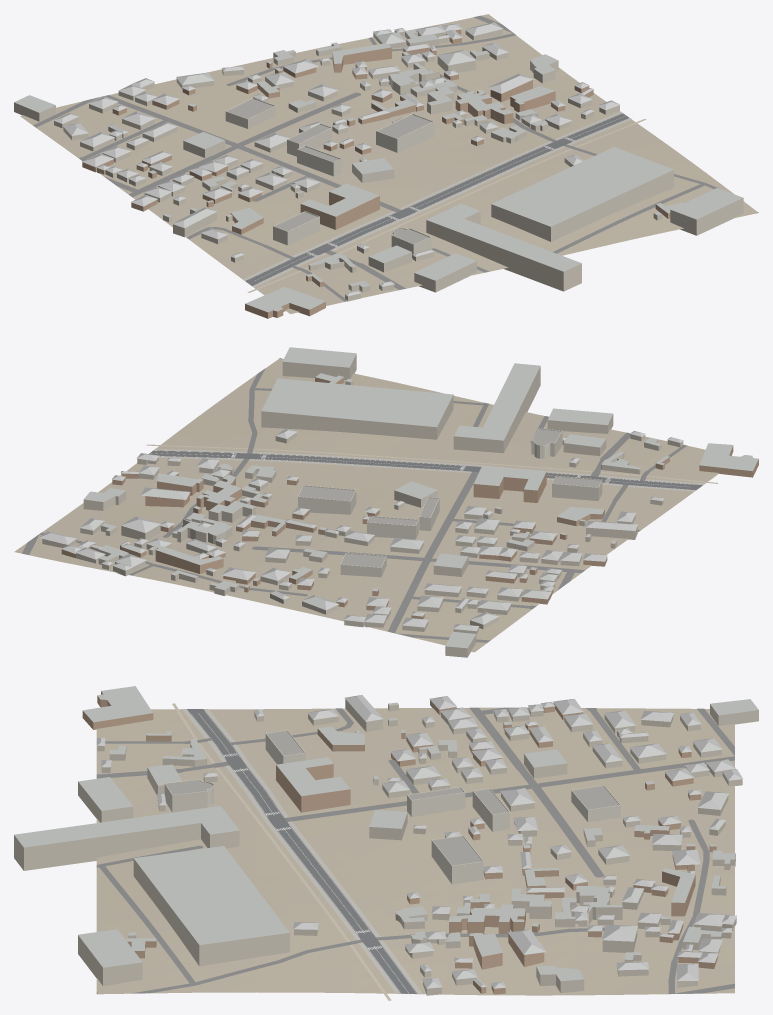
File: bolak_-8_1.glb
3 views of the same model, one above another, from view 1: azimuth 30°, elevation 25°; view 2: azimuth 150°, elevation 25°; view 3: azimuth 270°, elevation 25° (orthographic). The views are drawn at different scales.
Visible parts, largest first — view 1: Yer_Tuproq-col, Tom_Shifer, Devor_Suvoq-col, Devor_Gisht-col, Yol_Mahalla-col, Devor_Jamoat-col, Yol_Asfalt-col, Tom_Tekis, Trotuar, Yol_Piyoda; view 2: Yer_Tuproq-col, Tom_Shifer, Devor_Suvoq-col, Devor_Gisht-col, Yol_Mahalla-col, Devor_Jamoat-col, Yol_Asfalt-col, Tom_Tekis, Trotuar, Yol_Piyoda; view 3: Yer_Tuproq-col, Tom_Shifer, Devor_Suvoq-col, Yol_Mahalla-col, Devor_Gisht-col, Devor_Jamoat-col, Yol_Asfalt-col, Tom_Tekis, Trotuar, Yol_Piyoda, Yol_Chiziq.
Part boxes in pixels (<box>): Yer_Tuproq-col: <box>20,14,757,313</box>; Tom_Shifer: <box>14,22,743,312</box>; Devor_Suvoq-col: <box>14,29,743,301</box>; Devor_Gisht-col: <box>82,29,670,318</box>; Yol_Mahalla-col: <box>33,15,758,301</box>; Devor_Jamoat-col: <box>225,98,433,258</box>; Yol_Asfalt-col: <box>245,113,629,285</box>; Tom_Tekis: <box>227,99,431,244</box>; Trotuar: <box>243,111,631,287</box>; Yol_Piyoda: <box>247,119,646,292</box>; Yer_Tuproq-col: <box>14,358,731,652</box>; Tom_Shifer: <box>39,347,758,648</box>; Devor_Suvoq-col: <box>42,354,683,657</box>; Devor_Gisht-col: <box>61,377,758,618</box>; Yol_Mahalla-col: <box>22,358,686,642</box>; Devor_Jamoat-col: <box>298,428,602,577</box>; Yol_Asfalt-col: <box>149,450,702,489</box>; Tom_Tekis: <box>299,429,601,567</box>; Trotuar: <box>153,448,704,491</box>; Yol_Piyoda: <box>146,444,717,483</box>; Yer_Tuproq-col: <box>96,707,734,995</box>; Tom_Shifer: <box>14,686,758,988</box>; Devor_Suvoq-col: <box>14,699,758,995</box>; Yol_Mahalla-col: <box>96,707,734,993</box>; Devor_Gisht-col: <box>82,691,717,994</box>; Devor_Jamoat-col: <box>164,730,620,884</box>; Yol_Asfalt-col: <box>187,709,417,993</box>; Tom_Tekis: <box>166,731,618,865</box>; Trotuar: <box>182,709,422,993</box>; Yol_Piyoda: <box>172,703,391,1000</box>; Yol_Chiziq: <box>192,712,417,996</box>.
Size of what is drawn, in the model's own units: 435 by 22.51 by 467.
